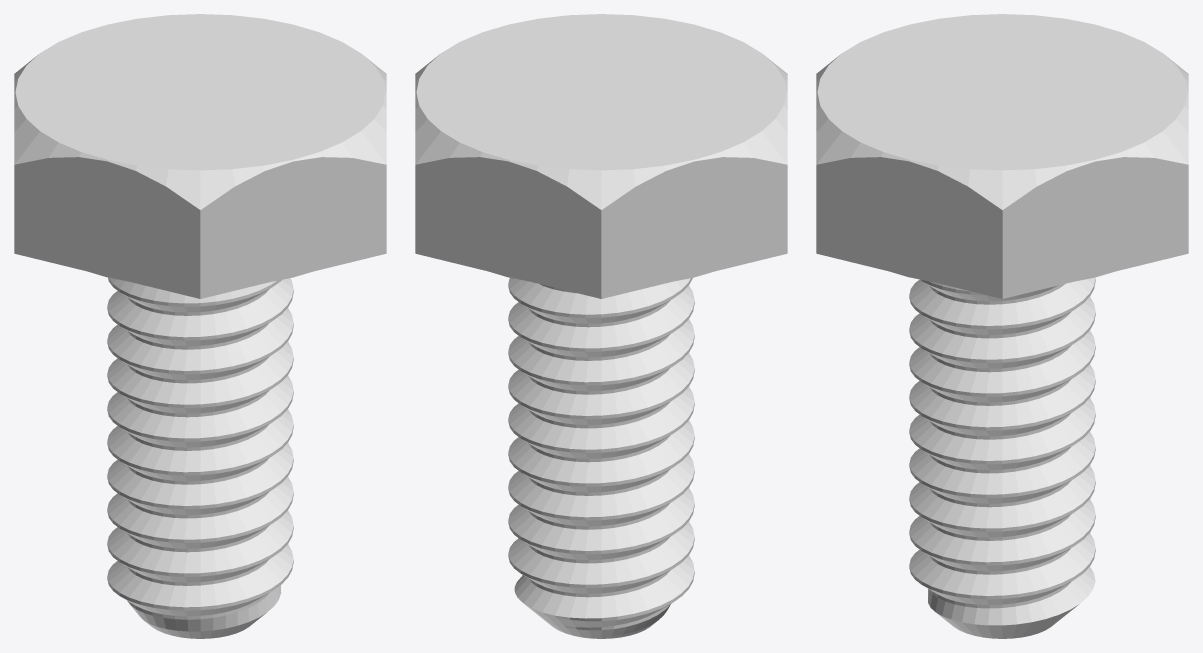
The picture shows the model from 3 angles, left to right: view 1: azimuth 30°, elevation 25°; view 2: azimuth 150°, elevation 25°; view 3: azimuth 270°, elevation 25°; orthographic projection.
Parts seen in each view (by area): view 1: M2x6; view 2: M2x6; view 3: M2x6.
Boxes of the visible parts, x1=… form: M2x6: x1=14, y1=14, x2=386, y2=638; M2x6: x1=415, y1=14, x2=787, y2=638; M2x6: x1=816, y1=14, x2=1188, y2=638.
Size of the model in its own units: 462 by 620 by 400.
1 material, 1 textured.
